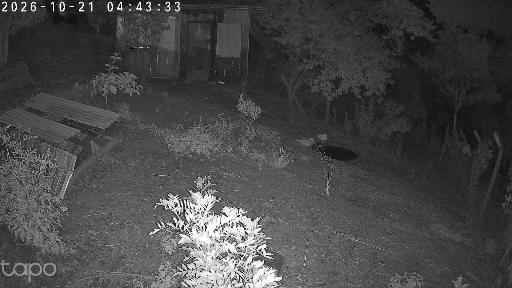pato: (296, 138, 315, 146), (316, 133, 329, 144)
